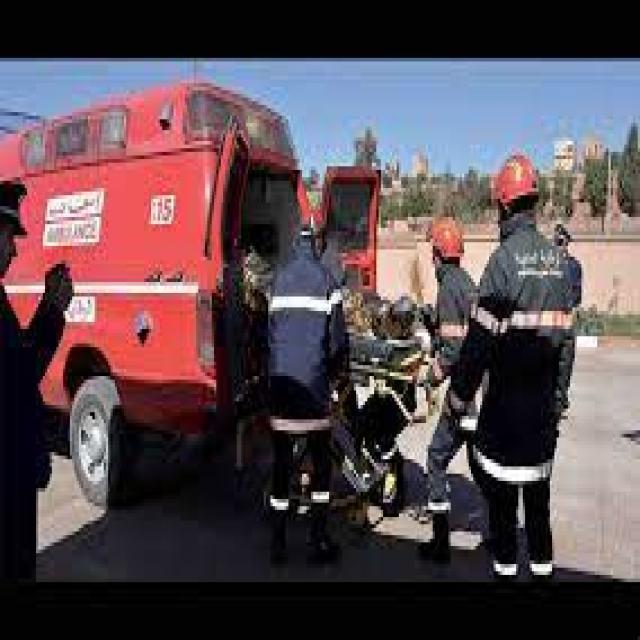ambulance: (0, 68, 406, 536)
